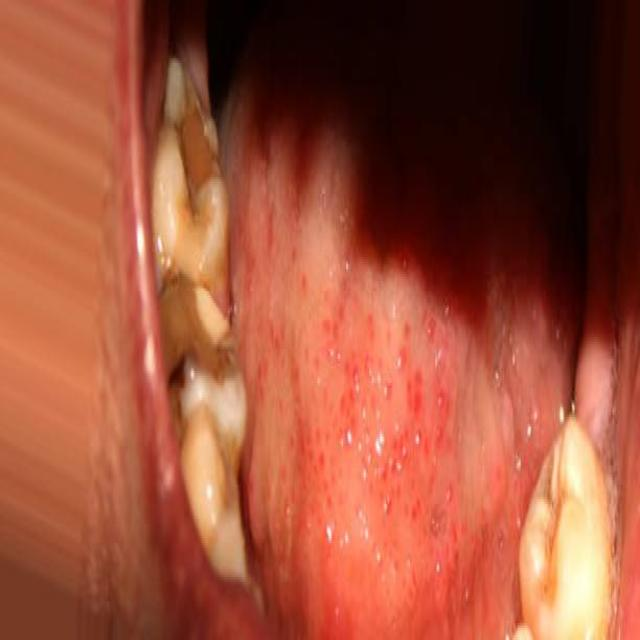caries: (148, 53, 234, 268), (151, 261, 252, 427)
